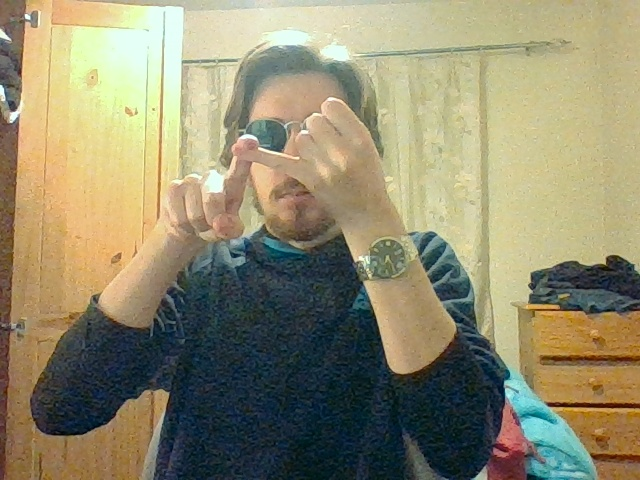step: (169, 97, 371, 240)
